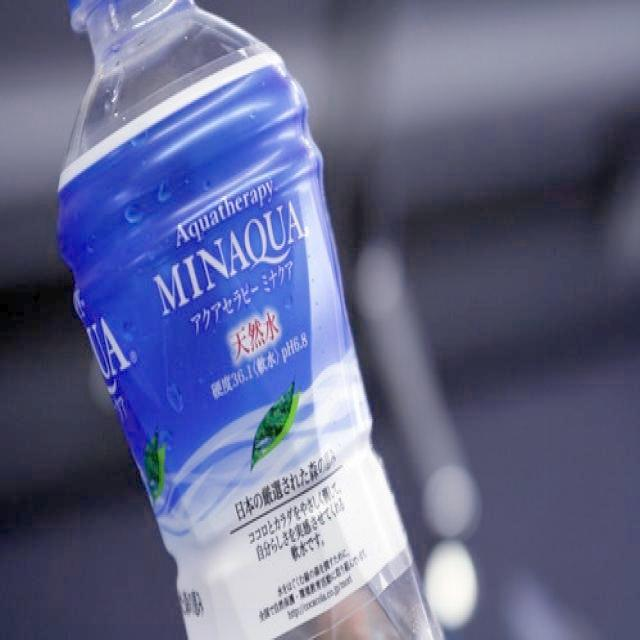bottle: (56, 1, 445, 640)
